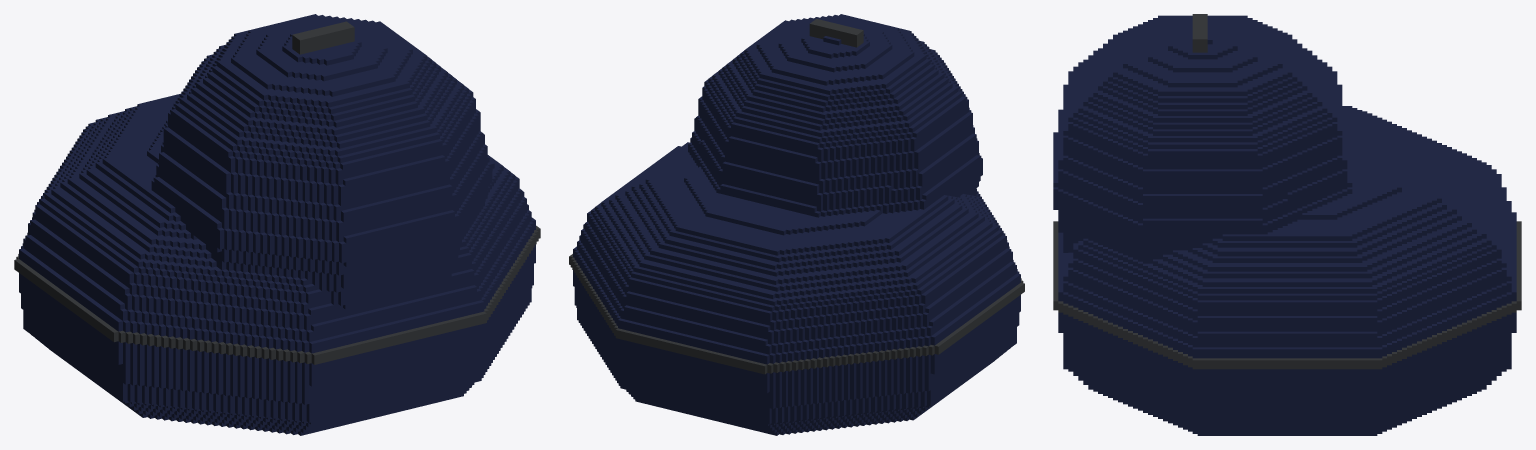
File: beanbag.glb
3 renders of one model, left to right at view 1: azimuth 30°, elevation 25°; view 2: azimuth 150°, elevation 25°; view 3: azimuth 270°, elevation 25°, orthographic. The views are drawn at different scales.
Visible parts, largest first — view 1: beanbag:compound; view 2: beanbag:compound; view 3: beanbag:compound.
Part boxes in pixels (<box>): beanbag:compound: <box>14,14,540,435</box>; beanbag:compound: <box>569,14,1024,435</box>; beanbag:compound: <box>1053,14,1521,435</box>.
Bounding box in the file's own units: 0.94 × 0.72 × 0.94.
